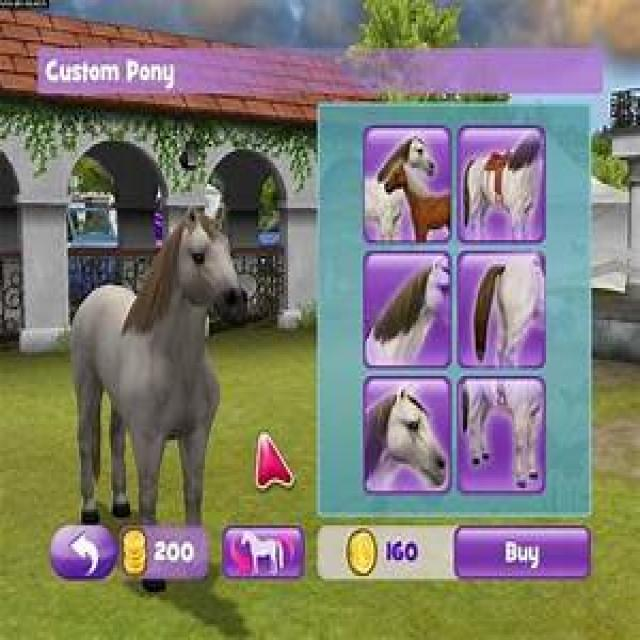horse: (45, 184, 236, 551)
